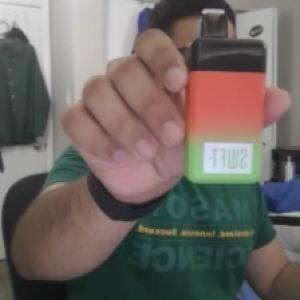Swift-E-Ciggirate: (185, 6, 272, 189)
